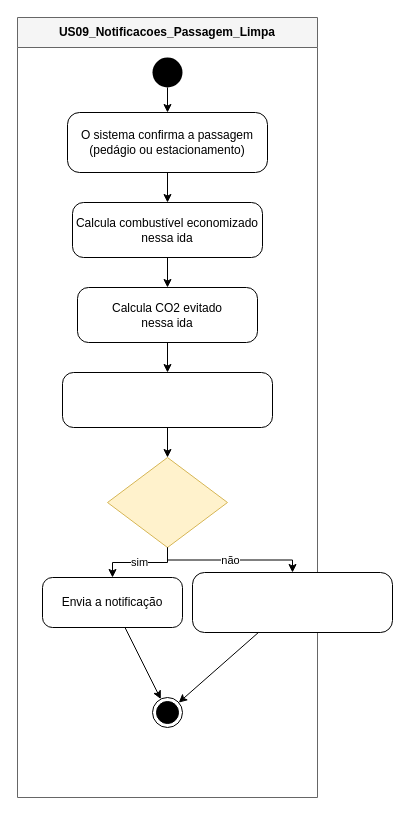
Some shapes in this 410 by 815 pixel diagram are drawn without their labels. Each missing label, with the box of its shape:
Guarda que passou do prazo (para a equipe ver depois): (192, 572, 392, 632)
Monta o texto do aviso no celular com esses números: (62, 372, 272, 428)
O aviso sai em até 3 minutos depois da passagem?: (106, 456, 228, 548)
